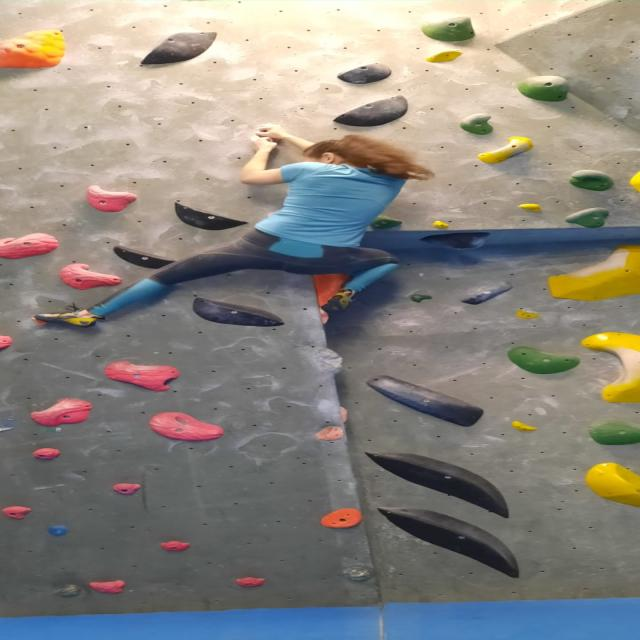Crimp: (87, 578, 126, 597), (0, 502, 35, 523), (112, 482, 145, 501), (155, 539, 199, 552), (232, 576, 269, 588)
Jug: (147, 410, 227, 444), (102, 358, 182, 390), (28, 397, 98, 431), (60, 261, 126, 292), (0, 229, 61, 260), (515, 74, 570, 105), (86, 184, 140, 215), (566, 170, 614, 200), (565, 203, 613, 230), (319, 506, 367, 532), (460, 116, 500, 140), (29, 443, 63, 462)
Pinch: (475, 133, 536, 166), (458, 278, 516, 308)
Sloper: (363, 449, 522, 520), (377, 505, 524, 580), (360, 368, 488, 433), (546, 243, 640, 304), (0, 23, 69, 70), (189, 294, 290, 326), (331, 94, 414, 130), (136, 30, 223, 64), (504, 343, 585, 378), (585, 461, 640, 509), (171, 201, 250, 231), (416, 12, 479, 47), (111, 243, 178, 268), (589, 415, 640, 447), (333, 61, 394, 87), (580, 329, 640, 354), (598, 373, 640, 408), (425, 230, 490, 252)
